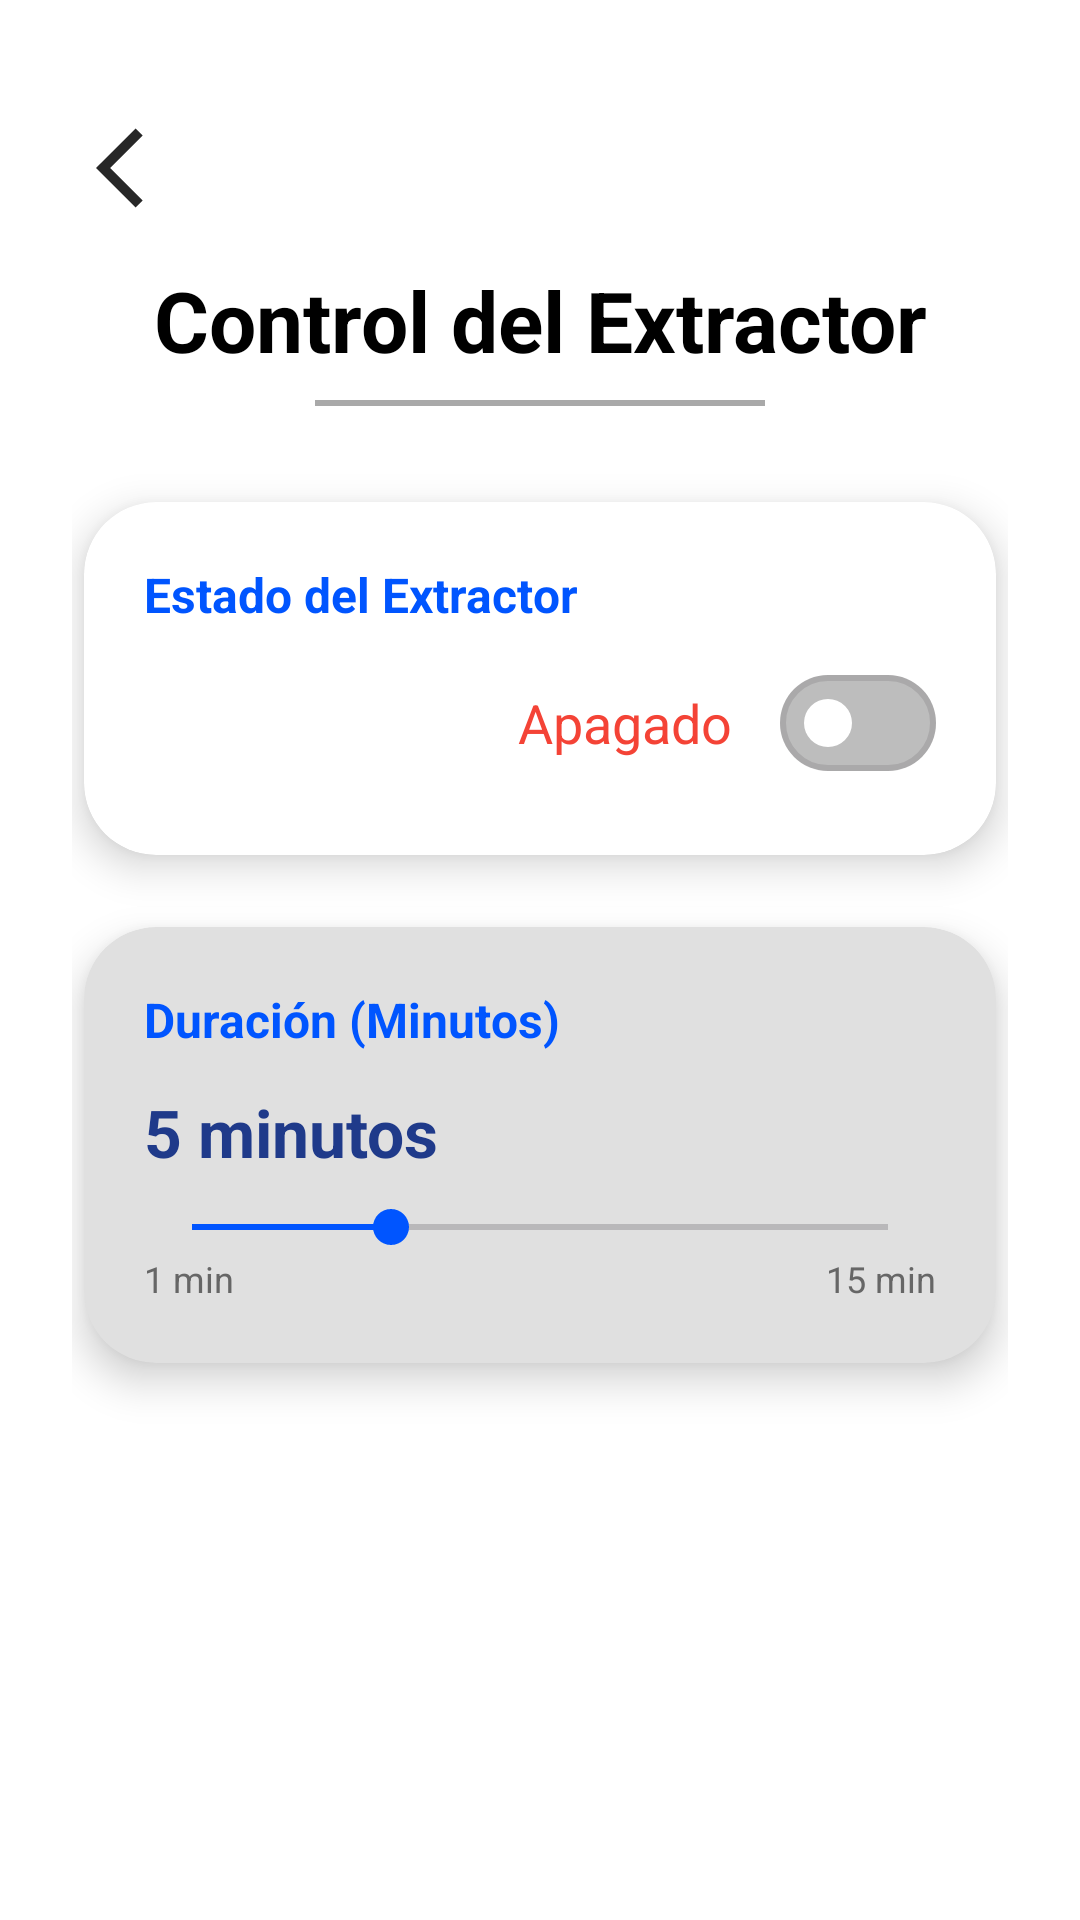

Icon click points for this 1080px×1920px phone screenshot, format [x,y]:
Volver: [119,168]
